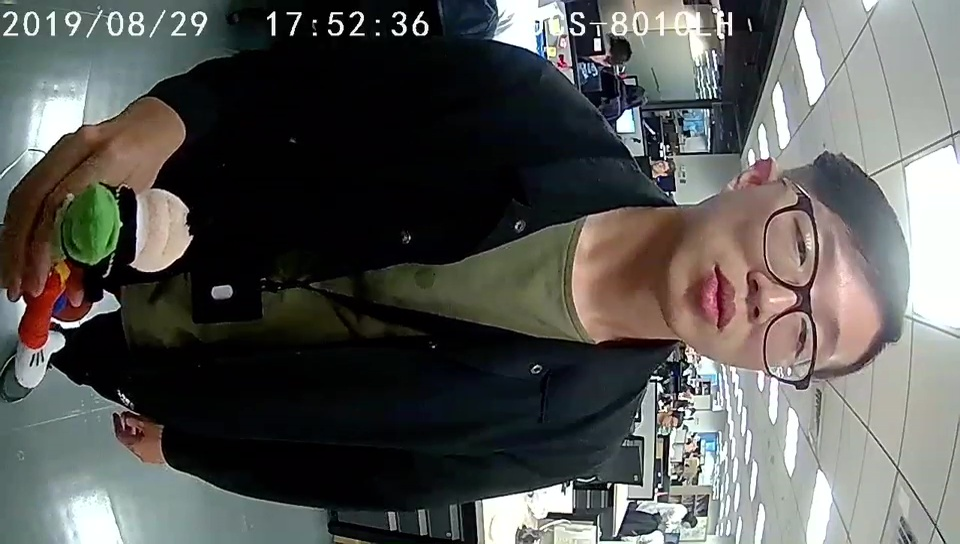goofy: (14, 177, 194, 388)
